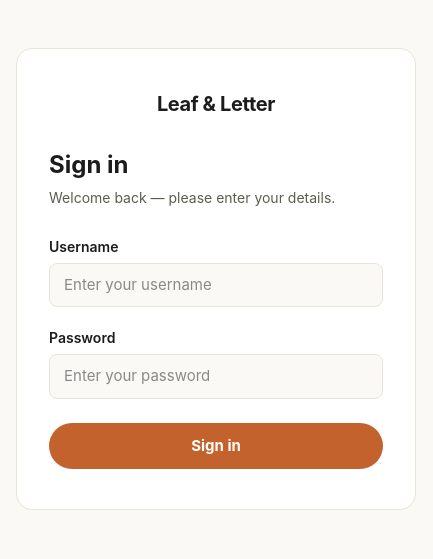
Test: Login page › shows error banner on failed login
The width and height of the screenshot is (433, 559).
Type "alexreader" into the field labelled "Username".
click(216, 285); type("alexreader")  # box [49,263,383,307]
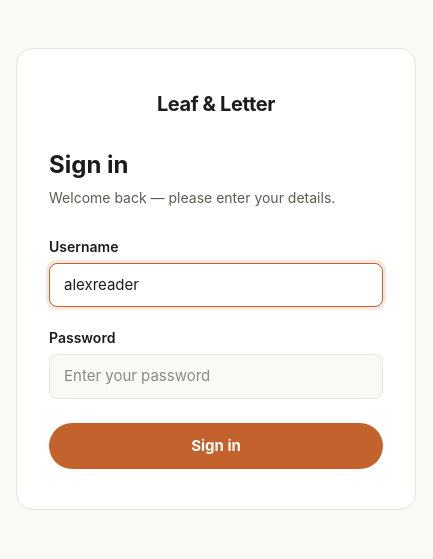
Type "wrongpassword" into the password field labelled "Password".
click(216, 377); type("wrongpassword")  # box [49,354,383,399]
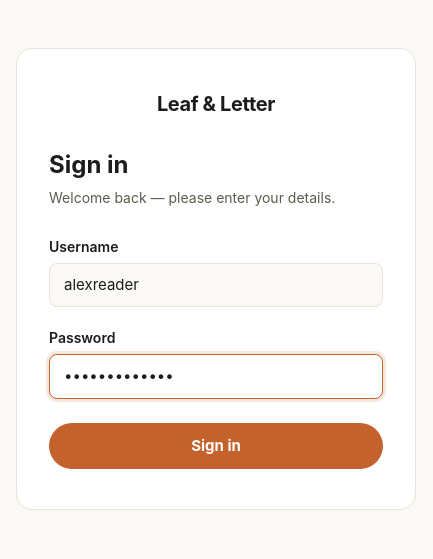
Click the button "Sign in".
click(216, 446)  # box [49,423,383,469]
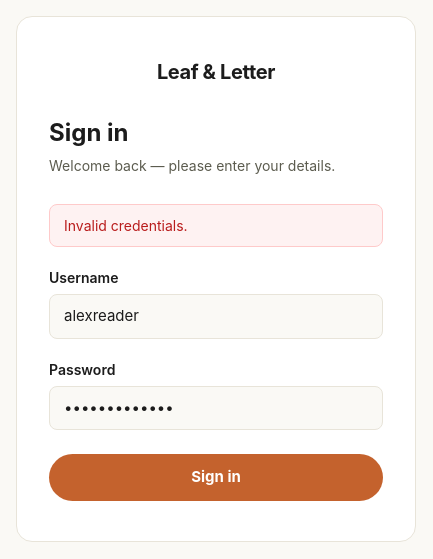
Now the message shows "Invalid credentials", box [64,217,188,234]
